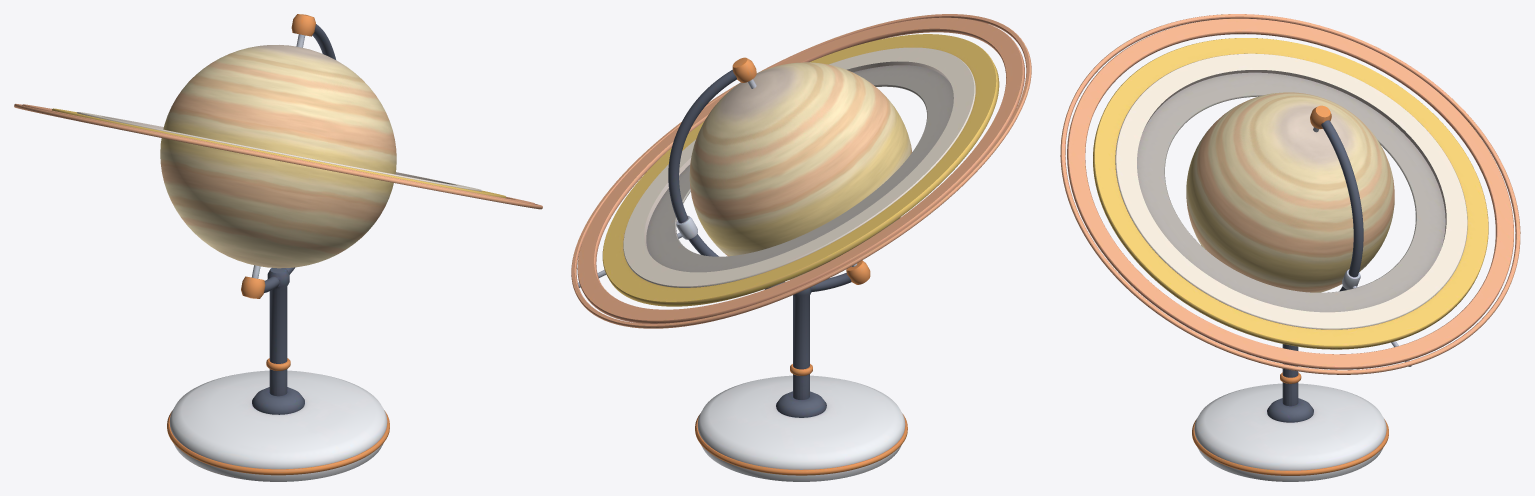
Rendered from saturn.glb.
The picture shows the model from 3 angles, left to right: view 1: azimuth 30°, elevation 25°; view 2: azimuth 150°, elevation 25°; view 3: azimuth 270°, elevation 25°; orthographic projection. The views are drawn at different scales.
Parts seen in each view (by area): view 1: saturn_sphere, saturn_body; view 2: saturn_body, saturn_sphere; view 3: saturn_body, saturn_sphere.
Boxes of the visible parts, x1,y1,x2,y2 form: saturn_sphere: (160, 45, 396, 268); saturn_body: (14, 14, 542, 481); saturn_body: (571, 14, 1031, 481); saturn_sphere: (689, 62, 911, 279); saturn_body: (1060, 14, 1520, 481); saturn_sphere: (1186, 92, 1394, 292).
Size of the model in its own units: 0.5072 by 0.4522 by 0.5268.
2 materials, 2 textured.
